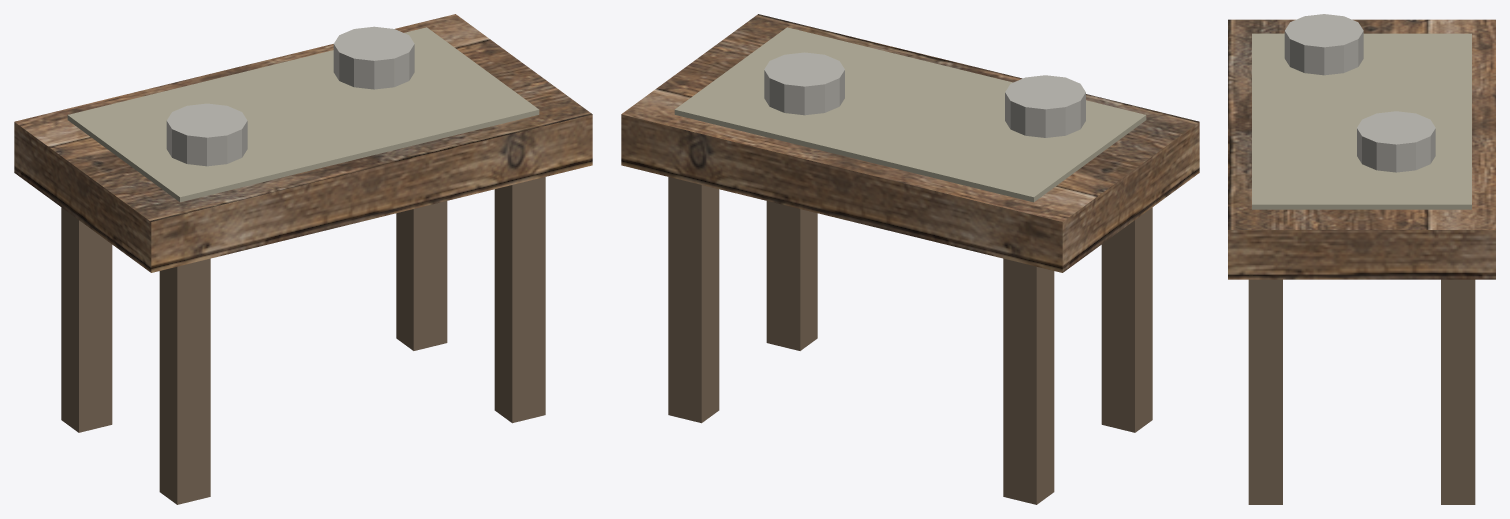
File: esstisch_mit_decke.glb
3 renders of one model, left to right at view 1: azimuth 30°, elevation 25°; view 2: azimuth 150°, elevation 25°; view 3: azimuth 270°, elevation 25°, orthographic. The views are drawn at different scales.
Parts seen in each view (by area): view 1: part_000, part_005, part_004, part_002, part_001, part_003, part_006, part_007; view 2: part_000, part_005, part_003, part_001, part_002, part_004, part_007, part_006; view 3: part_005, part_000, part_003, part_004, part_006, part_007.
Boxes of the visible parts, <box> form: part_000: <box>14,14,592,272</box>; part_005: <box>67,27,539,202</box>; part_004: <box>494,177,545,423</box>; part_002: <box>159,258,210,504</box>; part_001: <box>61,207,112,432</box>; part_003: <box>396,201,447,350</box>; part_006: <box>166,103,247,166</box>; part_007: <box>333,26,414,89</box>; part_000: <box>621,14,1199,272</box>; part_005: <box>674,27,1146,202</box>; part_003: <box>668,177,719,423</box>; part_001: <box>1003,258,1054,504</box>; part_002: <box>1101,207,1152,432</box>; part_004: <box>766,201,817,350</box>; part_007: <box>764,52,844,115</box>; part_006: <box>1005,75,1085,137</box>; part_005: <box>1252,33,1471,209</box>; part_000: <box>1228,19,1495,279</box>; part_003: <box>1441,279,1475,504</box>; part_004: <box>1248,279,1282,504</box>; part_006: <box>1284,14,1363,75</box>; part_007: <box>1357,111,1435,172</box>.
Size of the model in its own units: 1.45 by 1.07 by 0.78.
1 material, 1 textured.
